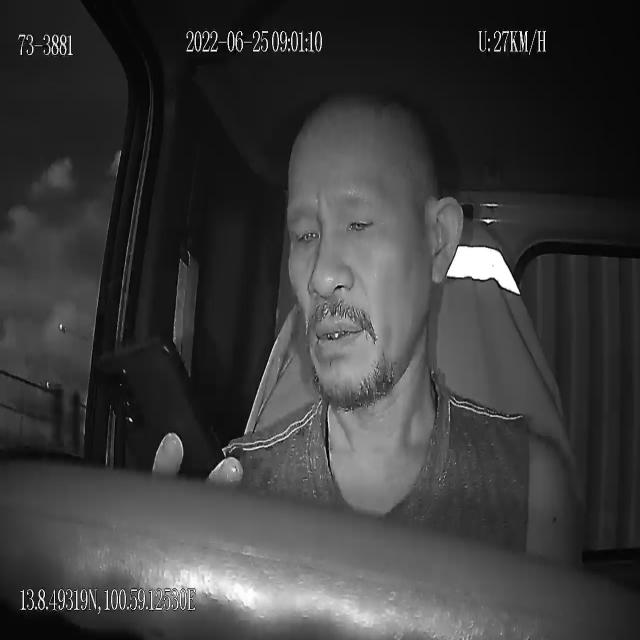phone: (95, 333, 226, 481)
